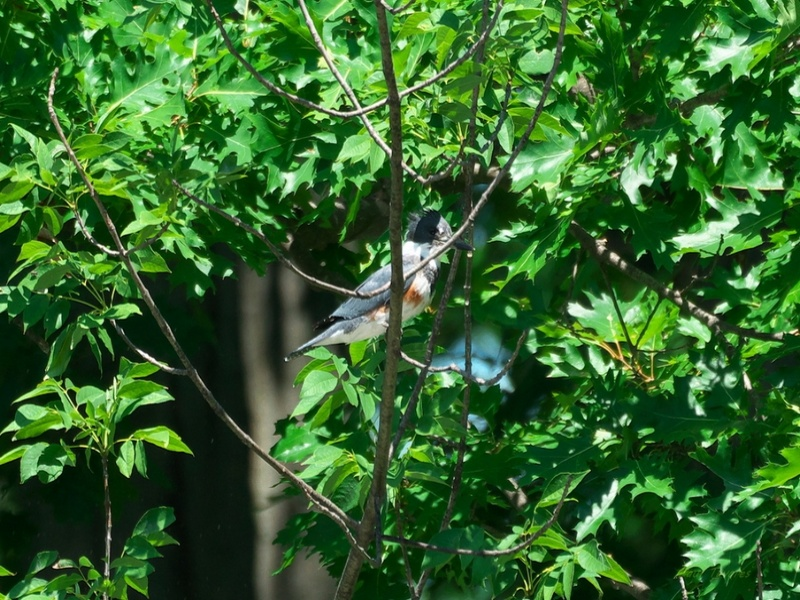kingfisher: (286, 210, 471, 363)
